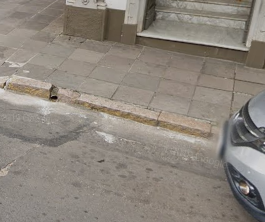vag22: (2, 36, 214, 195)
